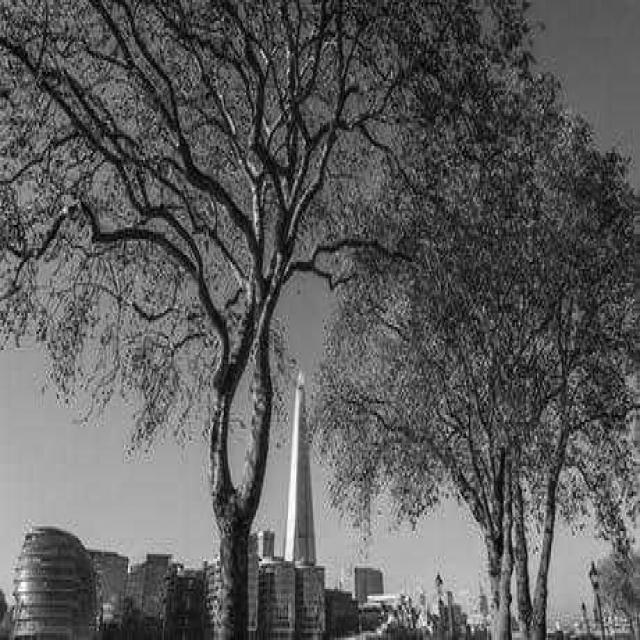Tree: (0, 4, 520, 638), (316, 64, 634, 638)
